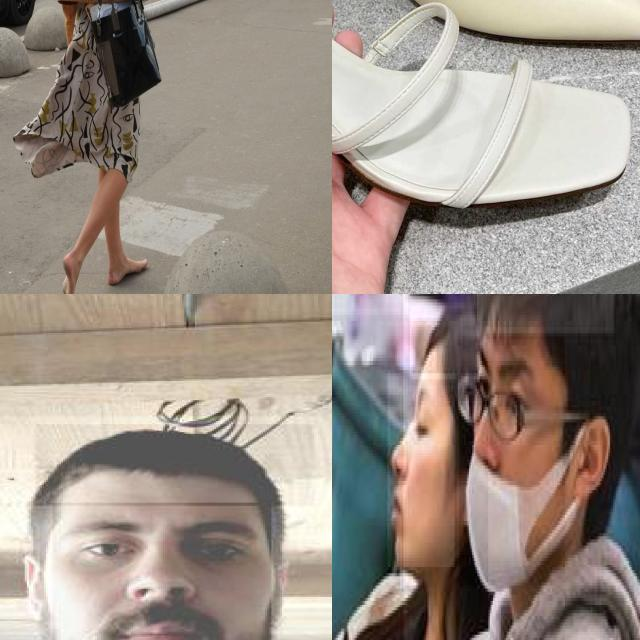Barefoots: (108, 258, 148, 285), (62, 254, 76, 294)
No_Ear-Protection: (572, 406, 616, 510)
No_Glasses: (63, 508, 263, 586)
Sandals: (332, 0, 640, 271), (332, 0, 640, 81)
face_mask: (459, 337, 565, 586)
face_nomask: (52, 502, 271, 640), (388, 373, 454, 567)
glasses: (455, 368, 526, 446)
head_nohelmet: (35, 424, 314, 506), (477, 294, 616, 336), (410, 315, 483, 382)
person: (403, 294, 640, 640), (0, 416, 332, 640), (332, 315, 489, 640)
